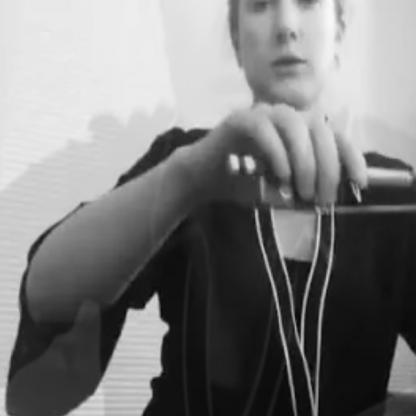good: (208, 76, 375, 218)
